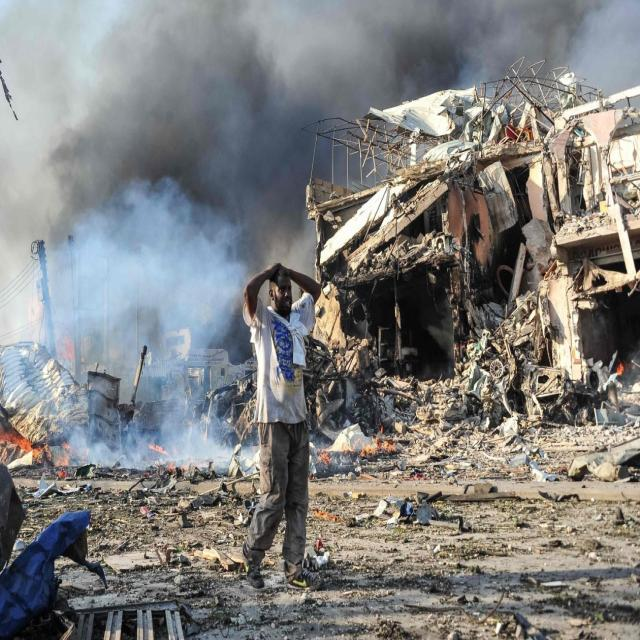Smoke: (31, 140, 232, 464), (40, 1, 404, 101)
